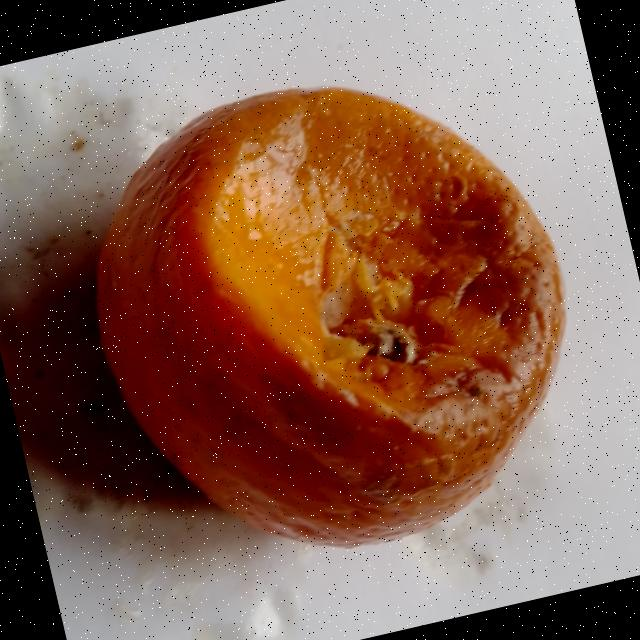Rotten: (53, 39, 611, 594)
